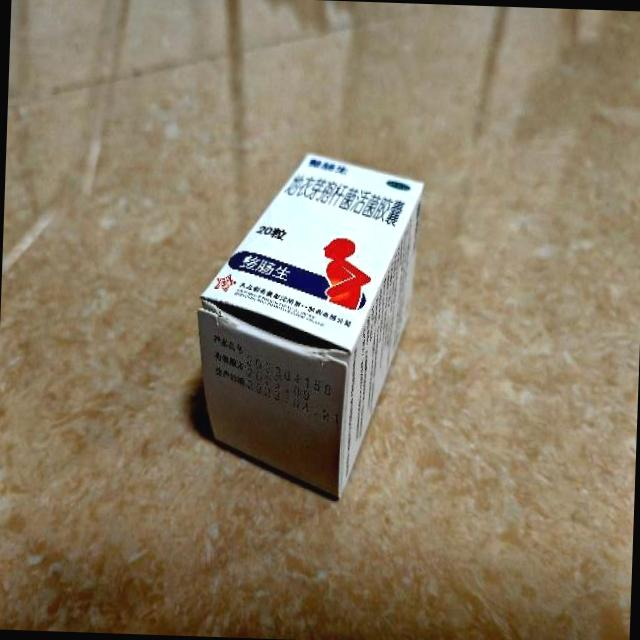box: (191, 147, 427, 500)
